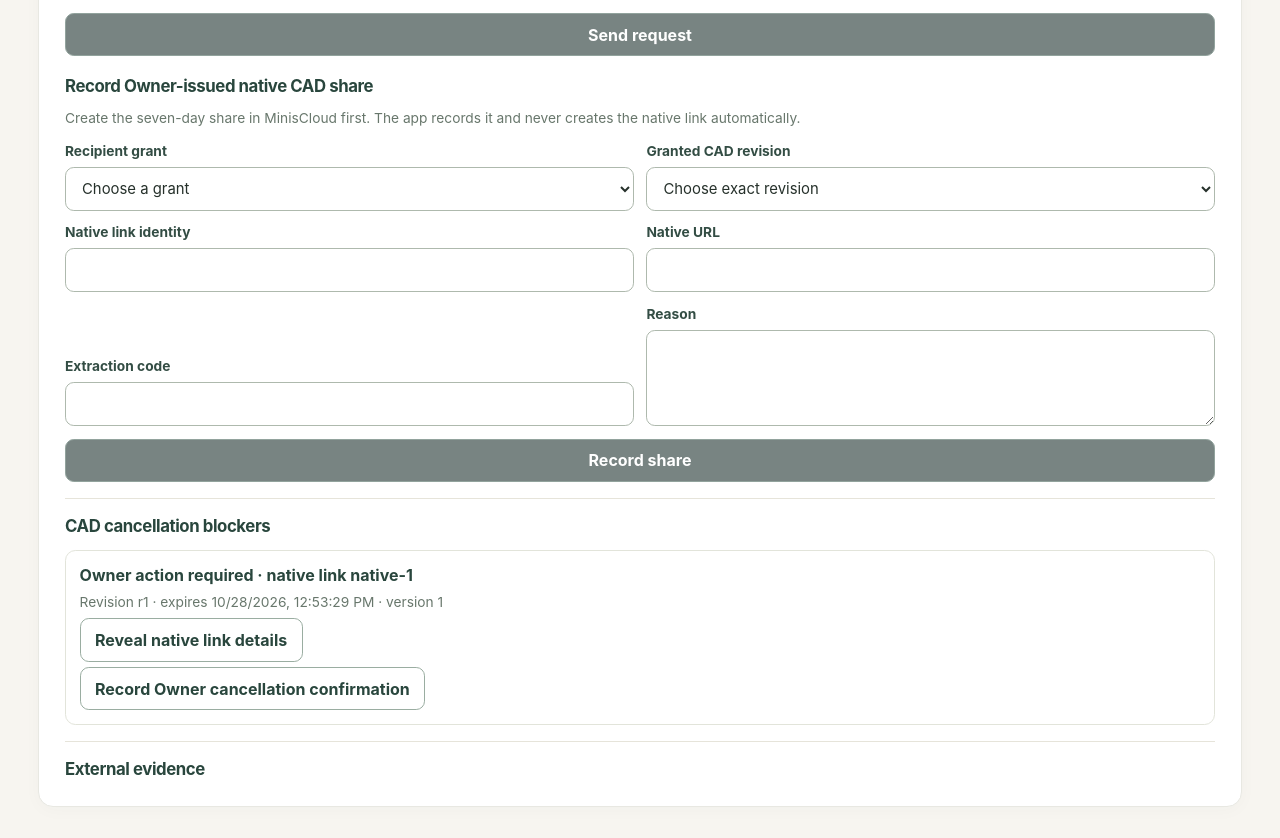
Scenario: external portal › keeps native URL and extraction code out of the staff workspace until an Owner asks to reveal them
(page scrolled)
Expected: the text "Owner action required · native link native-1" is shown, x1=80 y1=565 x2=413 y2=585
Expected: the text "private-code" is not shown
Click the button "Reveal native link details": {"x": 191, "y": 640} x1=80 y1=618 x2=303 y2=662
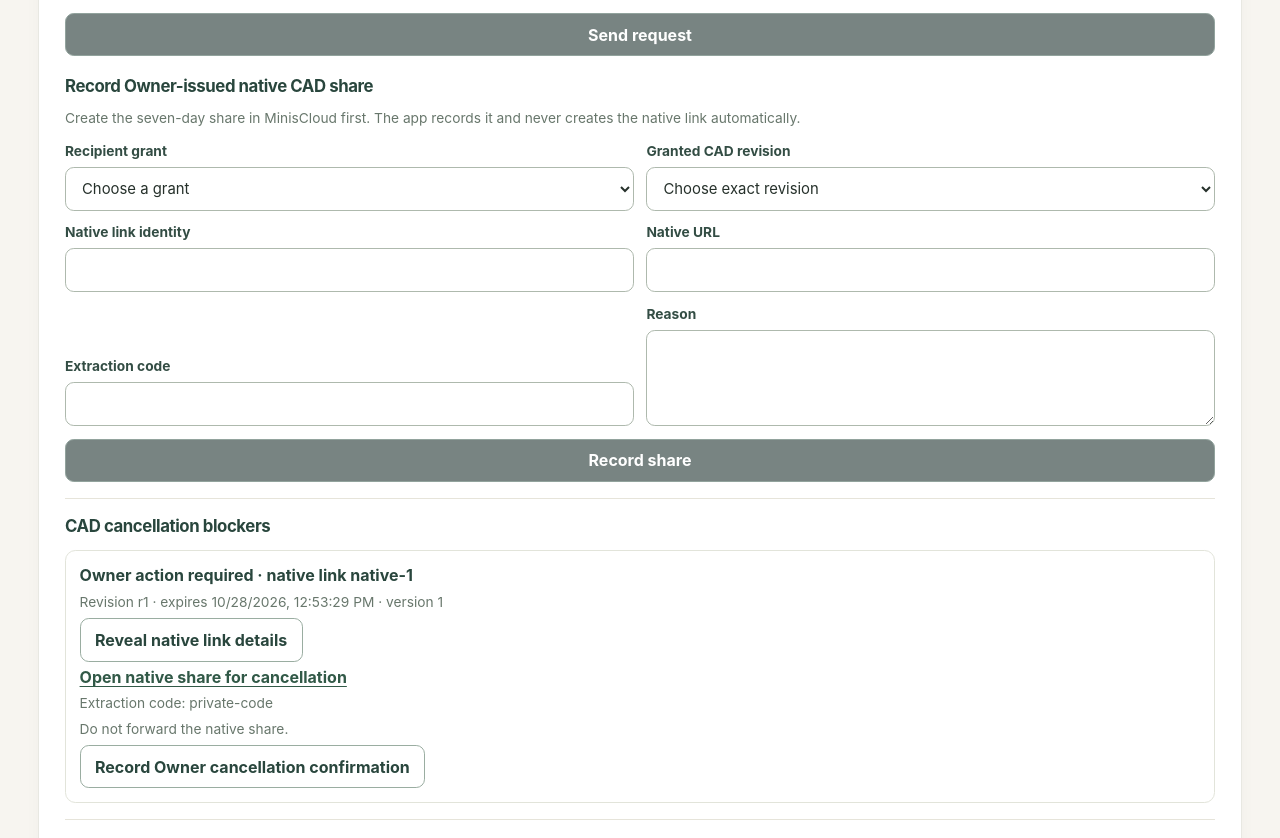
Result: the text "Extraction code: private-code" is shown at x1=80 y1=695 x2=273 y2=711
